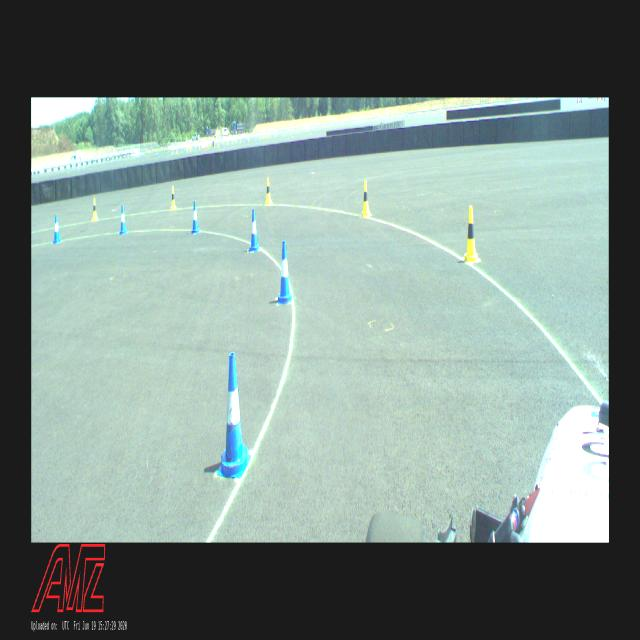blue_cone: (217, 352, 251, 478), (278, 240, 292, 304), (249, 209, 259, 251), (192, 200, 200, 234), (53, 214, 61, 243), (120, 206, 128, 233)
yellow_cone: (465, 206, 479, 262), (362, 180, 372, 217), (170, 187, 177, 210), (266, 178, 272, 204), (92, 198, 98, 220)
